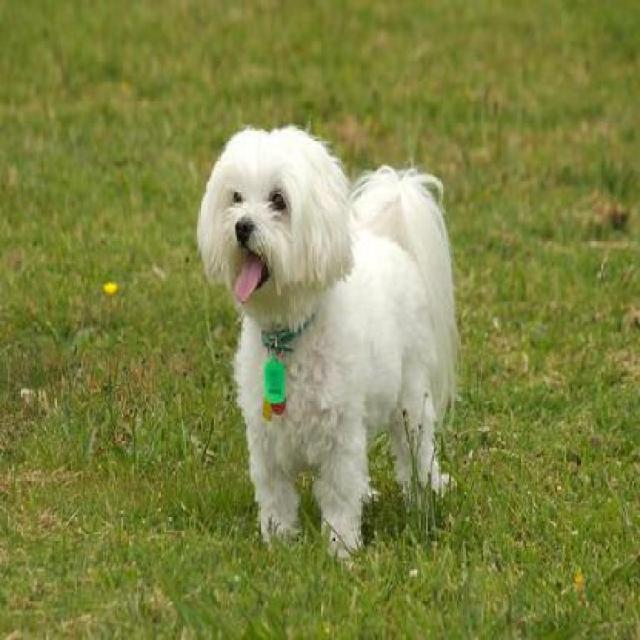Dog: (192, 120, 465, 577)
